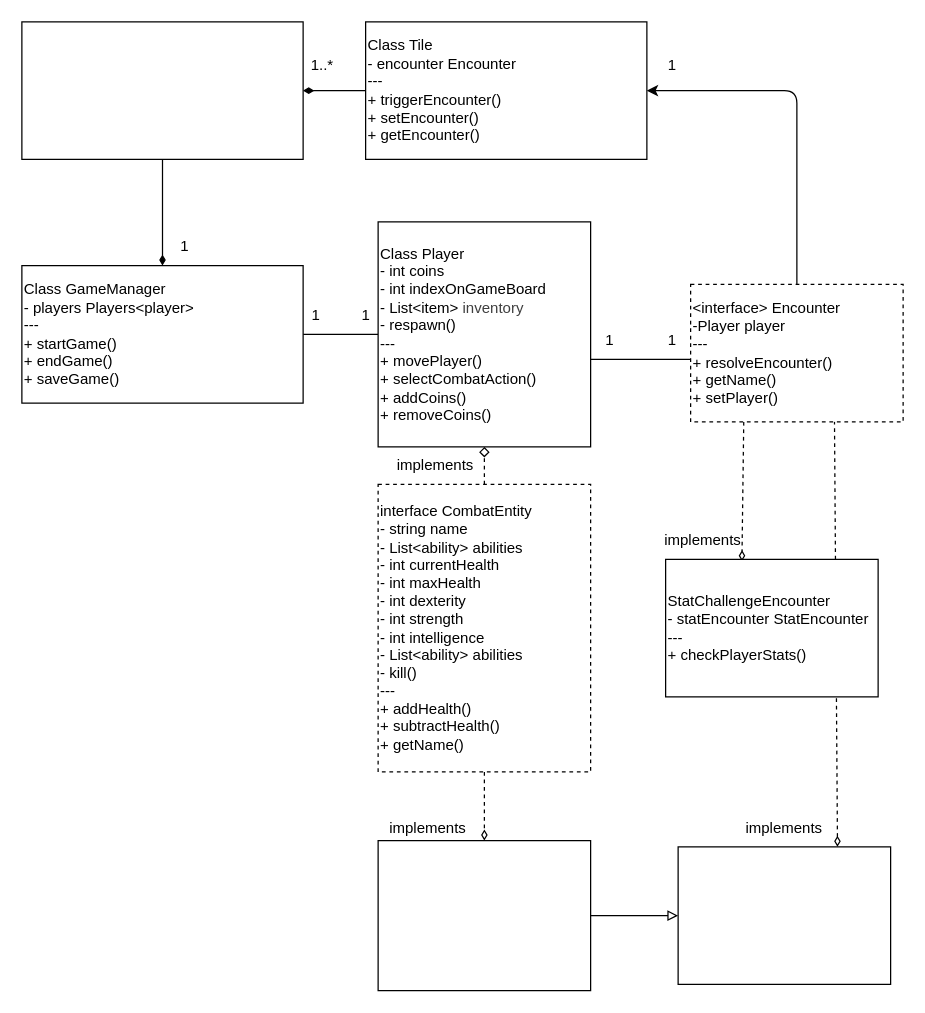
Some shapes in this 925 by 1013 pixel diagram are drawn without their labels. Here are the shapes that lost their labels. From the top down, the centre of each, then its label:
At pixel 162 90: "Class Board - tiles List<tile> --- + generateBoard() + getTile() + getLength()".
At pixel 484 915: "Class Enemy - int experience --- + getEnemyCombatAction()".
At pixel 784 915: "CombatEncounter - enemies List<Enemy> --- + processTurn() + endCombat()".
